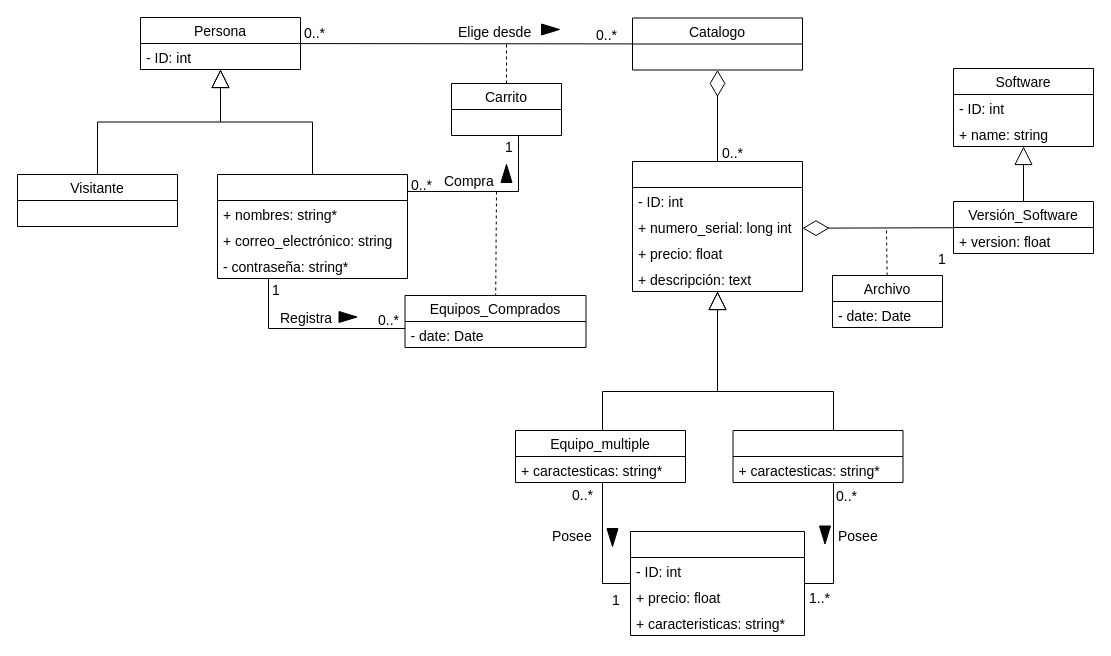
Some shapes in this 1111 by 656 pixel diagram are drawn without their labels. Here are the shapes that lost their labels. From the top down, the box of each, then its label:
(216, 174, 408, 278): Usuario
(632, 160, 802, 292): Equipo
(732, 430, 903, 482): Equipo_individual
(630, 530, 804, 636): Dispositivo
